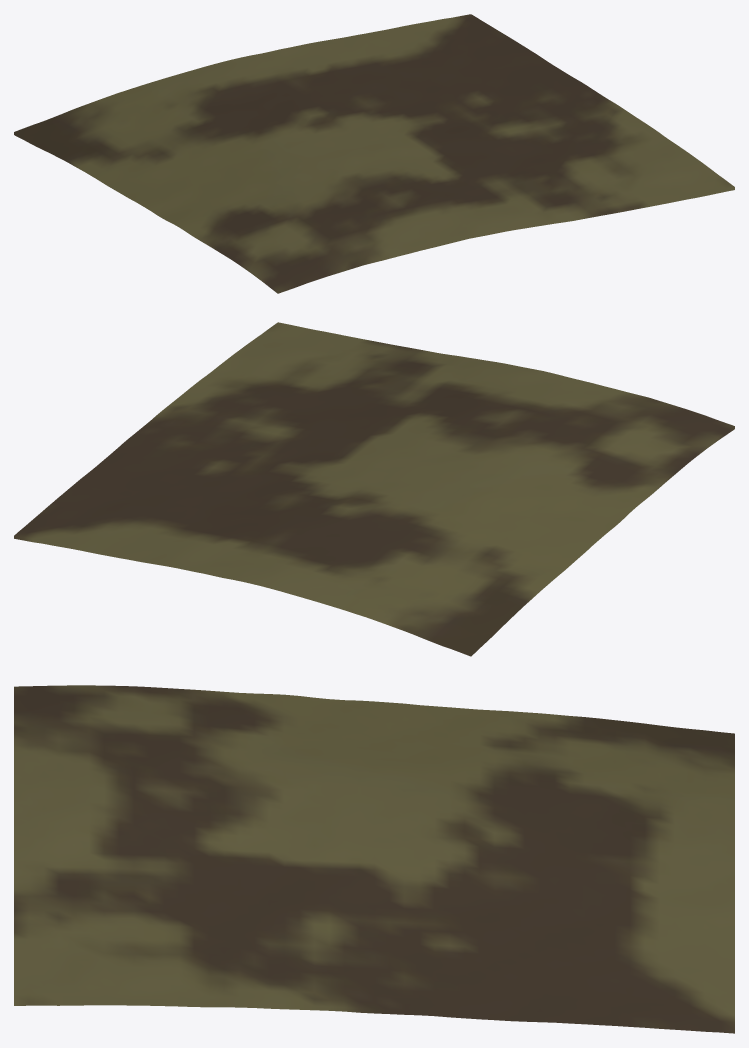
Rendered from land_m_10_10.glb.
3 renders of one model, top to bottom at view 1: azimuth 30°, elevation 25°; view 2: azimuth 150°, elevation 25°; view 3: azimuth 270°, elevation 25°, orthographic. The views are drawn at different scales.
Visible parts, largest first — view 1: land_m_10_10; view 2: land_m_10_10; view 3: land_m_10_10.
Boxes of the visible parts, bbox=[...] form: land_m_10_10: bbox=[14, 14, 734, 293]; land_m_10_10: bbox=[14, 322, 734, 656]; land_m_10_10: bbox=[14, 685, 734, 1033].
Size of the model in its own units: 960 by 93.02 by 960.
